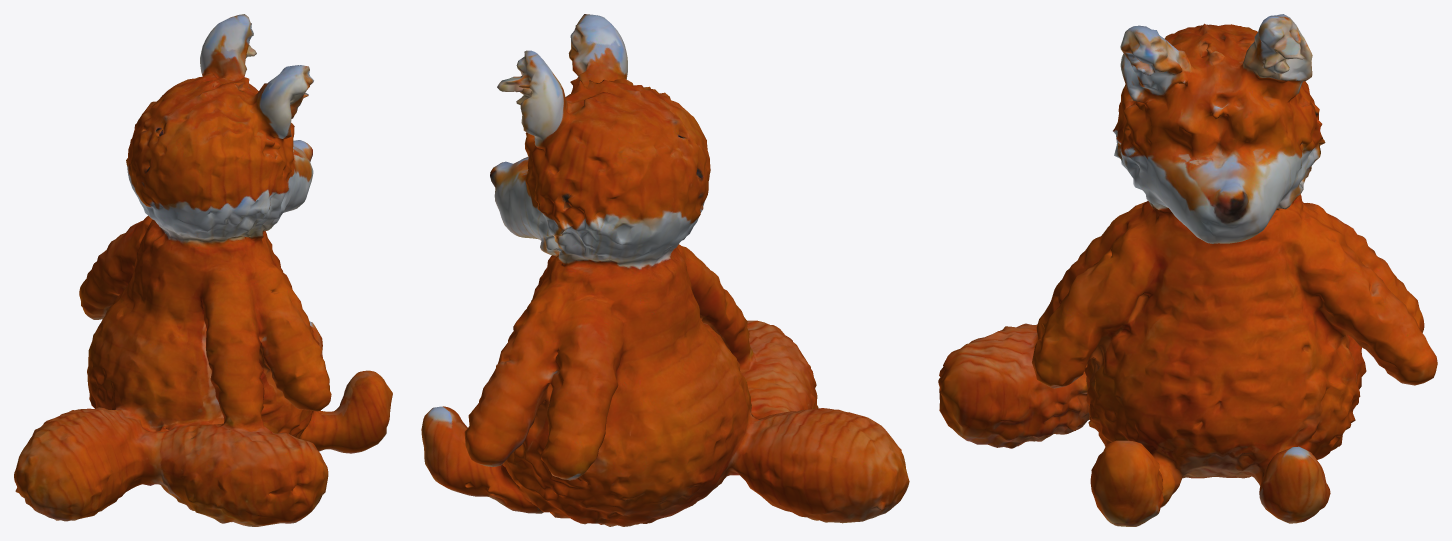
The picture shows the model from 3 angles, left to right: view 1: azimuth 30°, elevation 25°; view 2: azimuth 150°, elevation 25°; view 3: azimuth 270°, elevation 25°; orthographic projection. The views are drawn at different scales.
Visible parts, largest first — view 1: file1; view 2: file1; view 3: file1.
Part boxes in pixels (bbox=[...]): file1: bbox=[14, 14, 392, 526]; file1: bbox=[421, 14, 909, 526]; file1: bbox=[938, 14, 1437, 526].
Size of the model in its own units: 1.85 by 2 by 1.87.
Materials: 1 (1 with a texture image).
